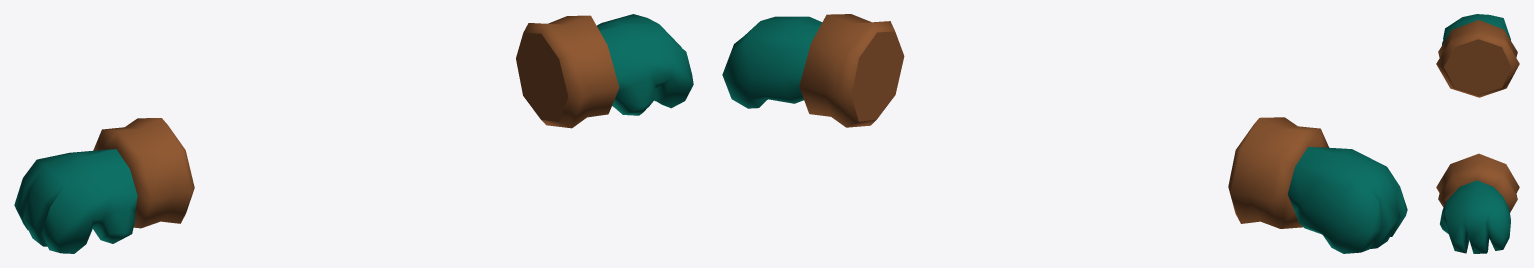
Rendered from Hands_28.fbx.
3 views of the same model, side by side, from view 1: azimuth 30°, elevation 25°; view 2: azimuth 150°, elevation 25°; view 3: azimuth 270°, elevation 25° (orthographic). The views are drawn at different scales.
Parts seen in each view (by area): view 1: Hands_28; view 2: Hands_28; view 3: Hands_28.
Boxes of the visible parts, box(x1,y1,x2,y2) form: Hands_28: box(14, 14, 693, 253); Hands_28: box(722, 14, 1407, 253); Hands_28: box(1436, 14, 1519, 253).
Size of the model in its own units: 133 by 19.74 by 22.85.
